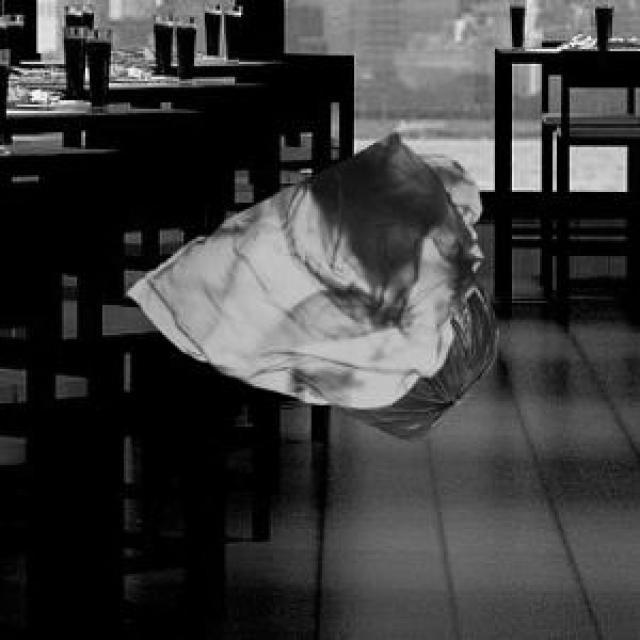miscellaneous trash: (337, 277, 495, 437)
